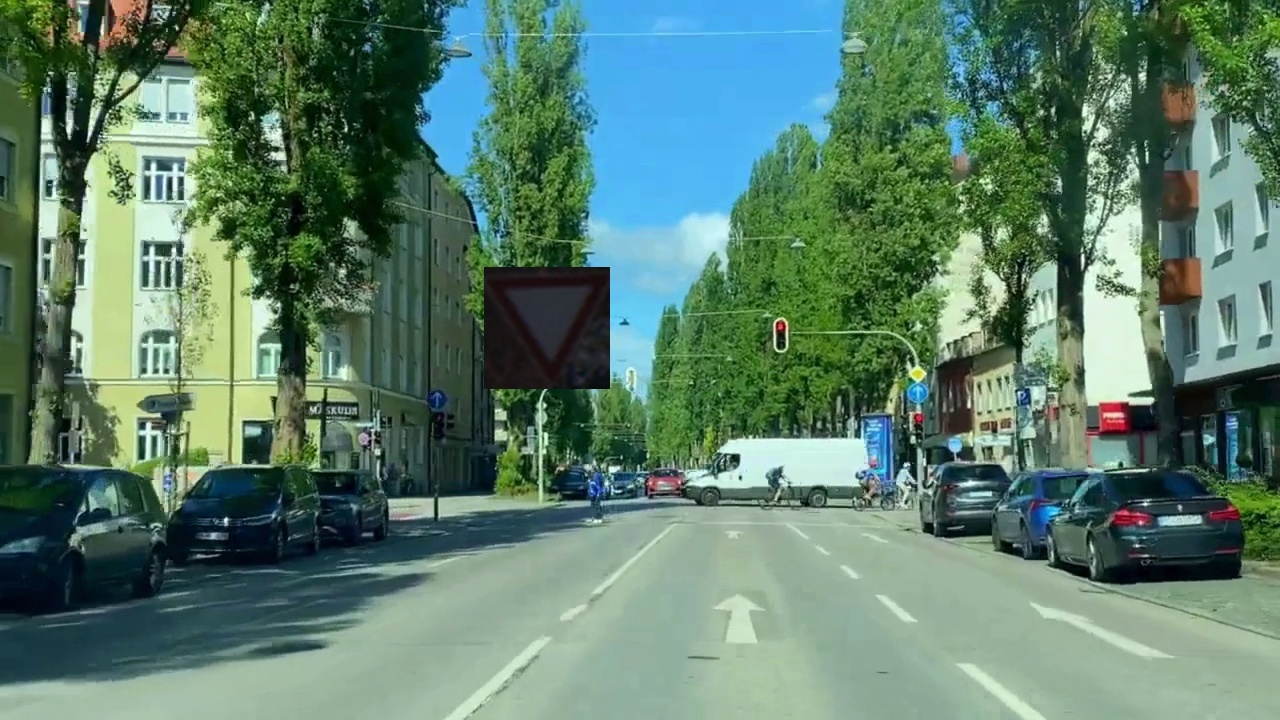Yield: (484, 267, 610, 389)
